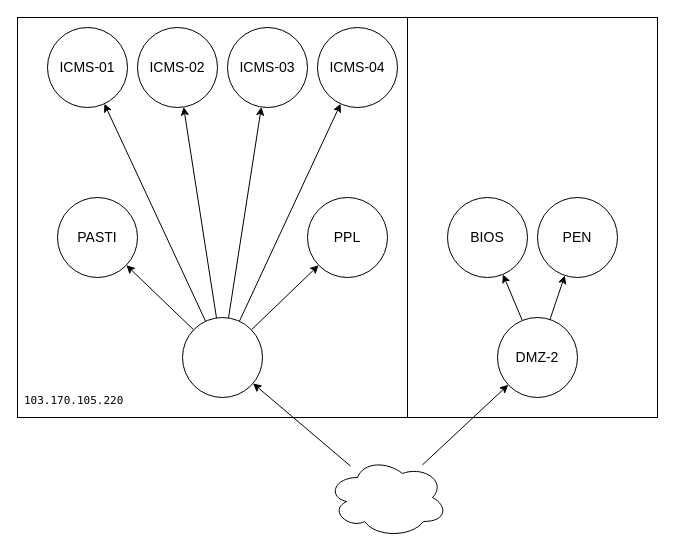
Some shapes in this 675 by 555 pixel diagram are drawn without their labels. Here are the shapes that lost their labels. From the top down, the box of each, then its label:
(182, 316, 262, 398): DMZ-1
(326, 456, 448, 538): Internet
